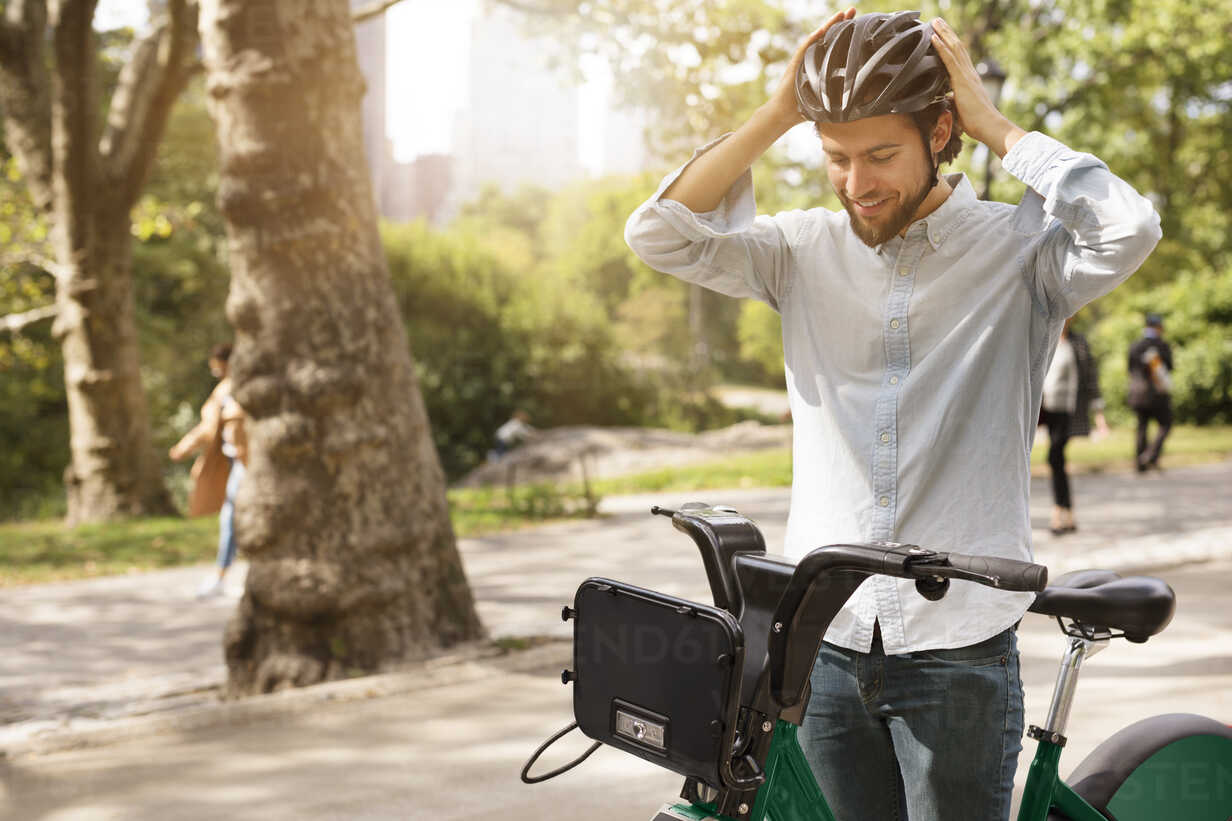helmet: (795, 11, 966, 248)
